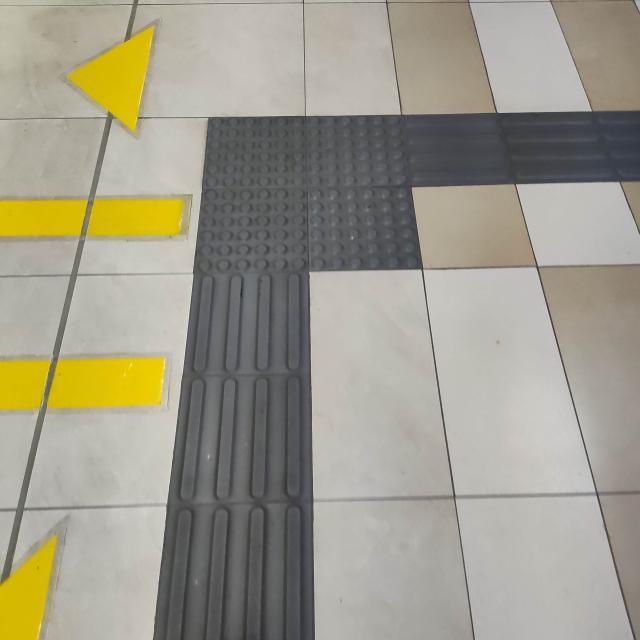kanan: (147, 78, 604, 295)
